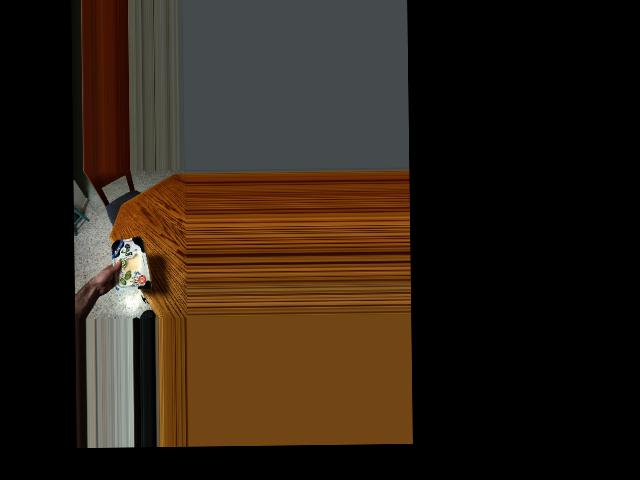cheese: (105, 237, 150, 291)
